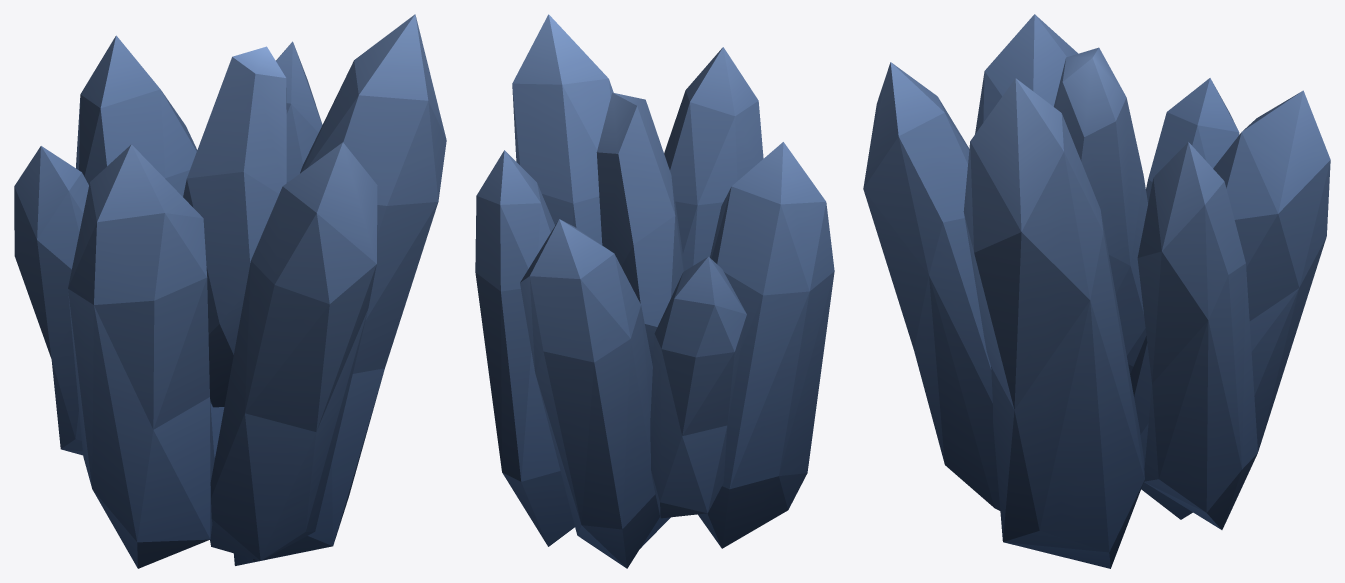
The model's file is SM_IceSpike2.fbx.
3 views of the same model, side by side, from view 1: azimuth 30°, elevation 25°; view 2: azimuth 150°, elevation 25°; view 3: azimuth 270°, elevation 25° (orthographic). The views are drawn at different scales.
Parts seen in each view (by area): view 1: SM_IceSpike2; view 2: SM_IceSpike2; view 3: SM_IceSpike2.
Boxes of the visible parts, x1,y1,x2,y2 form: SM_IceSpike2: (14, 14, 446, 568); SM_IceSpike2: (475, 14, 834, 568); SM_IceSpike2: (863, 14, 1330, 568).
Bounding box in the file's own units: 169 × 252 × 192.
